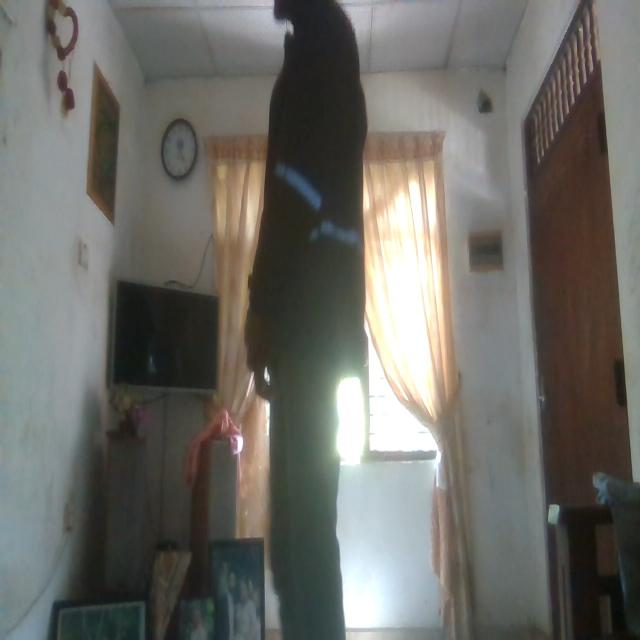Jacket_Wearer: (246, 28, 366, 380)
Person: (243, 2, 369, 640)
